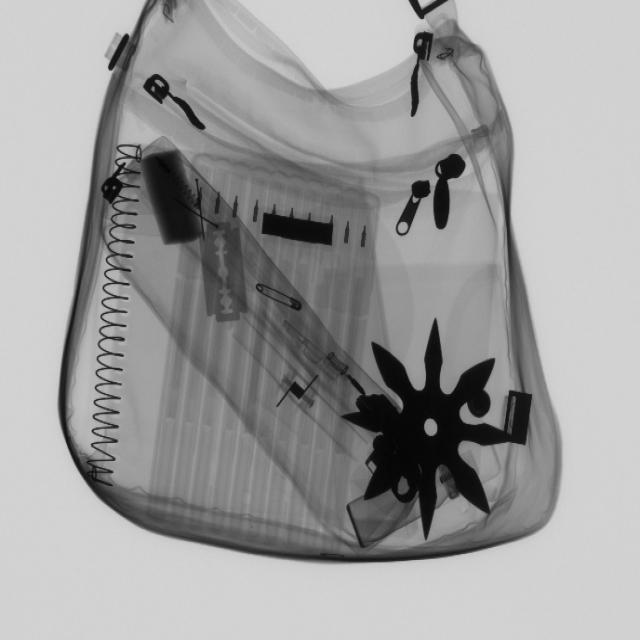BLADE: (194, 208, 254, 332)
SHURIKEN: (350, 316, 515, 542)
